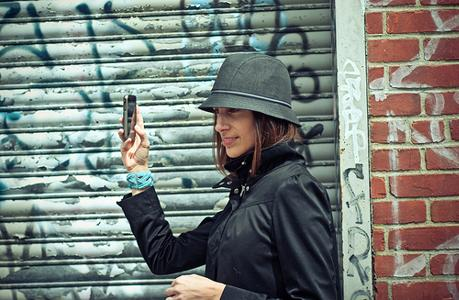person: (118, 55, 342, 299)
